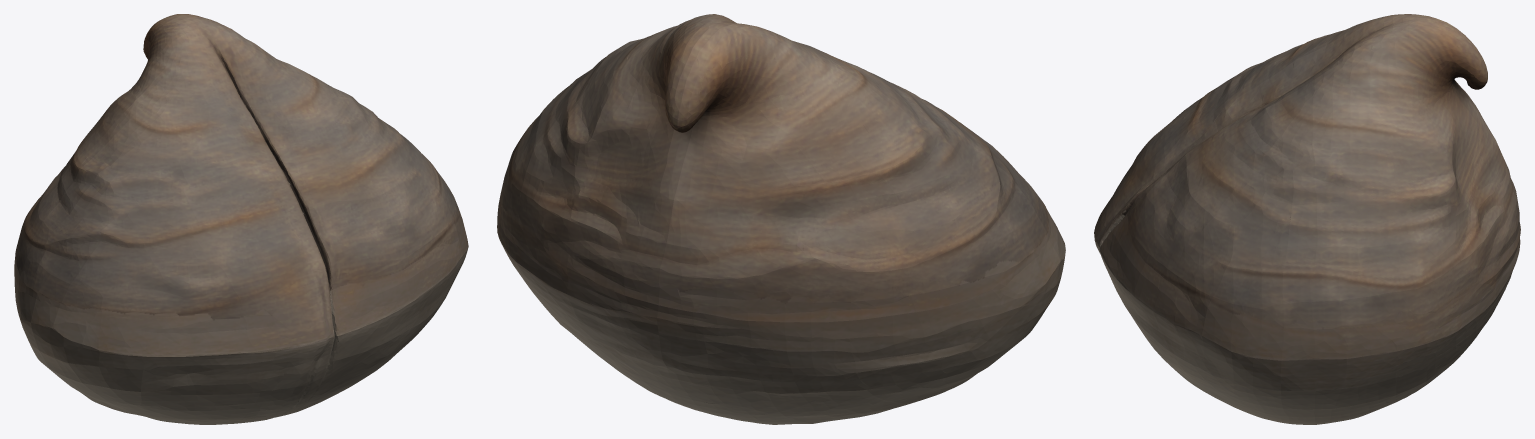
The picture shows the model from 3 angles, left to right: view 1: azimuth 30°, elevation 25°; view 2: azimuth 150°, elevation 25°; view 3: azimuth 270°, elevation 25°; orthographic projection. The views are drawn at different scales.
Visible parts, largest first — view 1: world; view 2: world; view 3: world.
Boxes of the visible parts, x1=… form: world: x1=14, y1=14, x2=468, y2=424; world: x1=497, y1=14, x2=1065, y2=424; world: x1=1094, y1=14, x2=1520, y2=424.
Bounding box in the file's own units: 0.8307 × 0.644 × 0.6689.
1 material, 1 textured.
